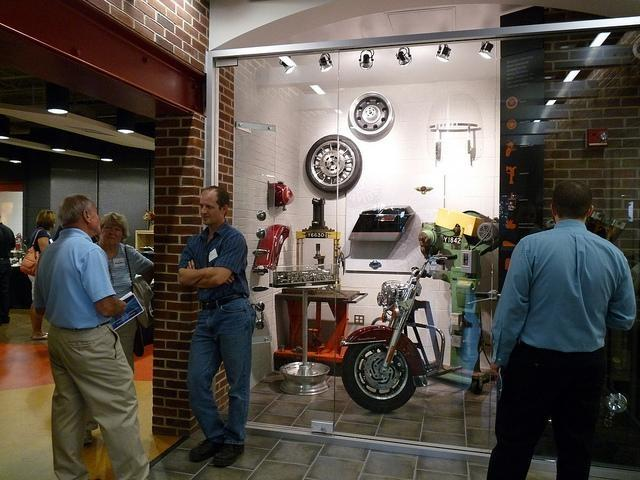motorcycle: (338, 250, 464, 412)
